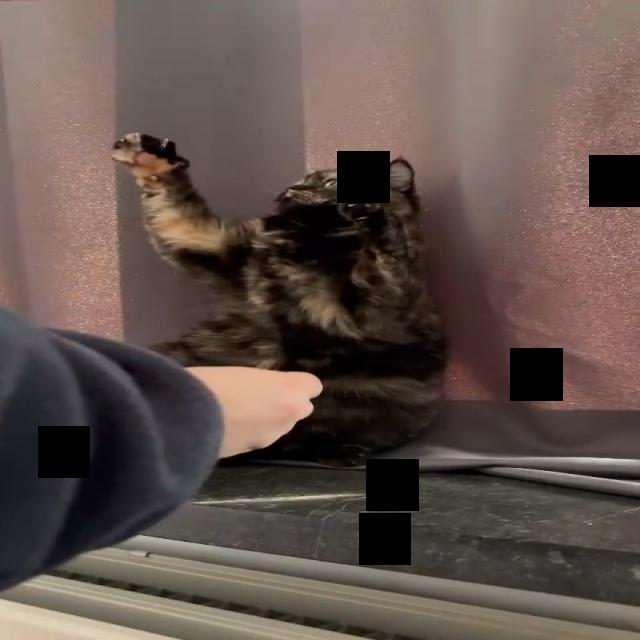authorized: (109, 130, 451, 468)
